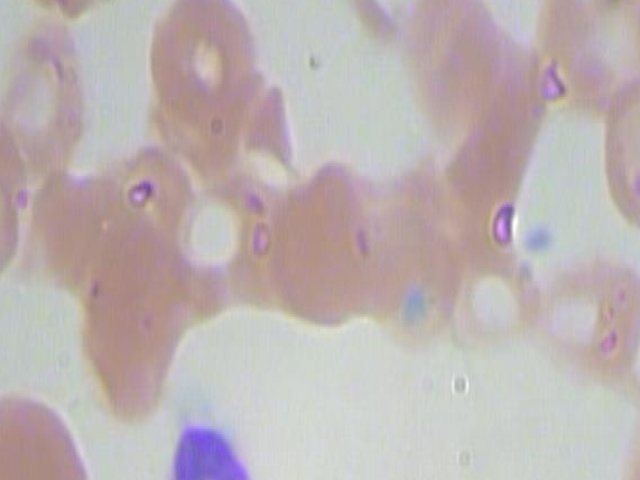RBC: (72, 227, 181, 428), (268, 155, 384, 328), (0, 13, 111, 186), (537, 222, 640, 395), (139, 0, 264, 137), (393, 0, 509, 140), (443, 224, 544, 364), (584, 61, 640, 234), (0, 386, 95, 480), (4, 0, 129, 24)
WBC: (135, 411, 289, 480)
